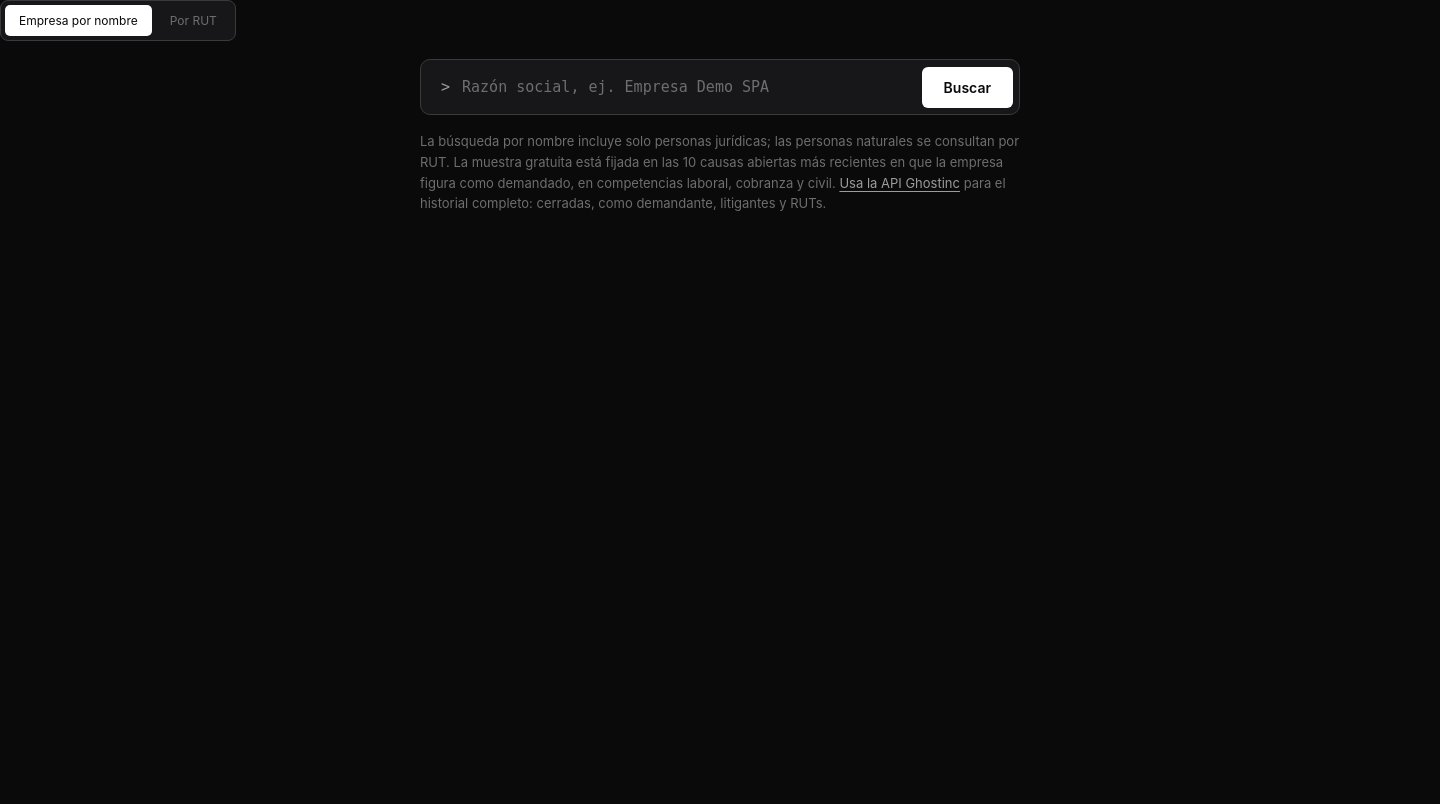
Test: SearchForm › maneja fechas inválidas sin romper el render
In the search field: (686, 87) x1=462 y1=66 x2=910 y2=108, type "Empresa Demo"
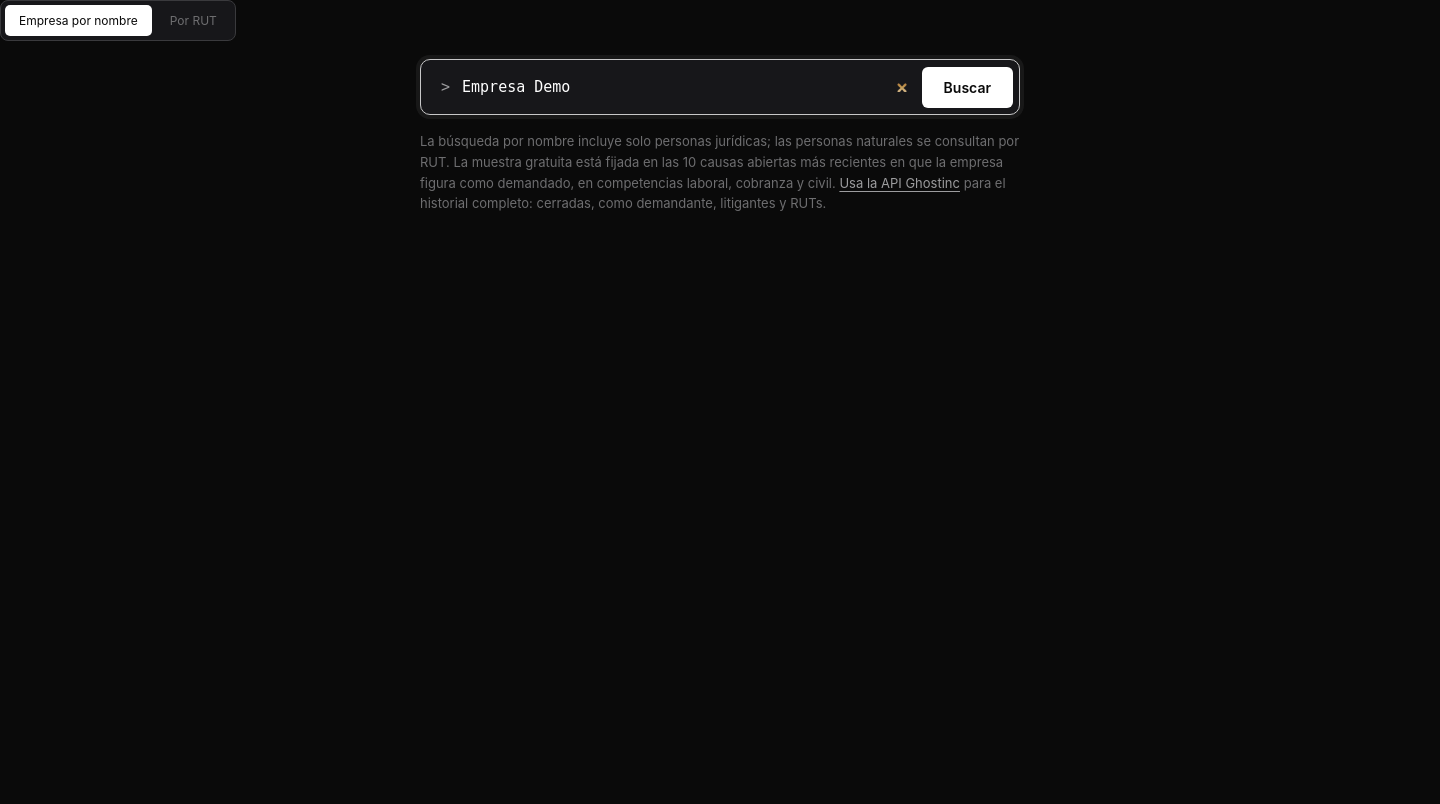
Click the button "Buscar": (967, 87) x1=922 y1=66 x2=1013 y2=108
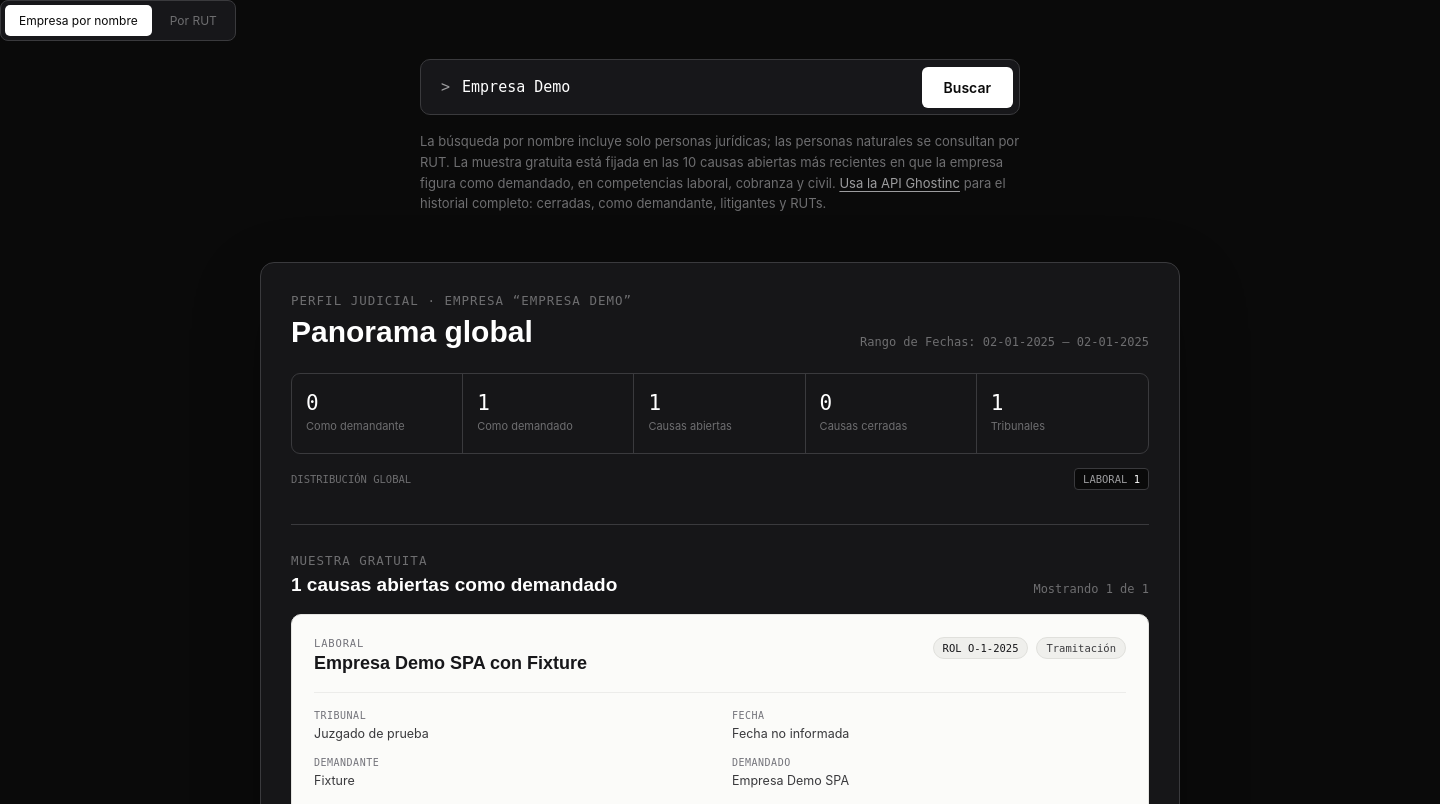
Expected: the text "Fecha no informada" is shown, x1=732 y1=726 x2=849 y2=741
